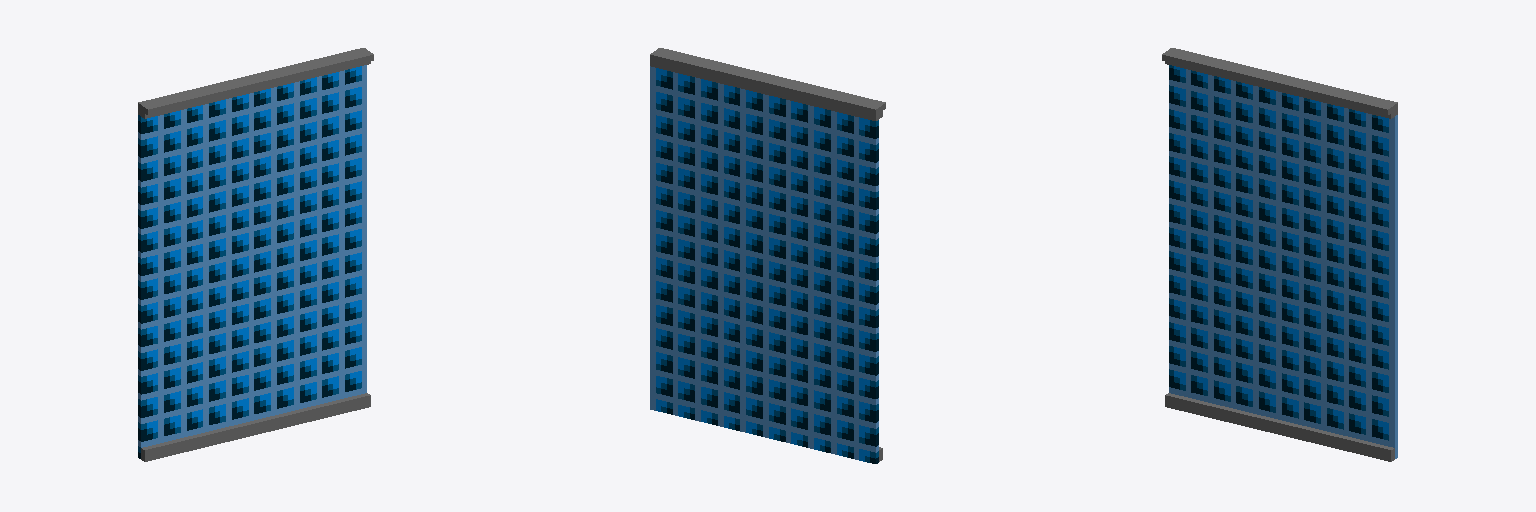
3 renders of one model, left to right at view 1: azimuth 30°, elevation 25°; view 2: azimuth 150°, elevation 25°; view 3: azimuth 330°, elevation 25°, orthographic.
Parts seen in each view (by area): view 1: wall_banheiro; view 2: wall_banheiro; view 3: wall_banheiro.
Part boxes in pixels (x1,y1,x2,y2): wall_banheiro: (138, 48, 373, 461); wall_banheiro: (650, 48, 885, 463); wall_banheiro: (1162, 48, 1397, 461).
Bounding box in the file's own units: 40 × 60 × 3.
1 materials, 1 textured.